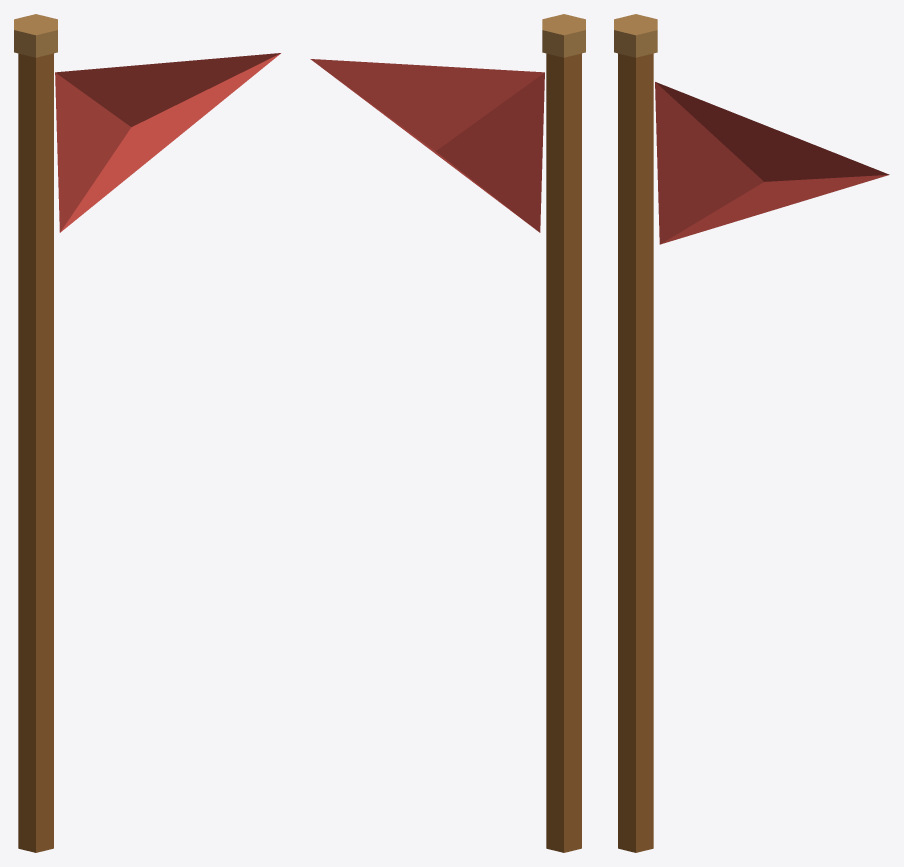
The model's file is red_flag_pole_3m.glb.
3 views of the same model, side by side, from view 1: azimuth 30°, elevation 25°; view 2: azimuth 150°, elevation 25°; view 3: azimuth 330°, elevation 25° (orthographic).
Visible parts, largest first — view 1: red_flag_pole_3m__pc; view 2: red_flag_pole_3m__pc; view 3: red_flag_pole_3m__pc.
Boxes of the visible parts, x1,y1,x2,y2 form: red_flag_pole_3m__pc: (14,14,280,852); red_flag_pole_3m__pc: (310,14,585,852); red_flag_pole_3m__pc: (614,14,889,852).
Size of the model in its own units: 1.14 by 3.29 by 0.1997.
